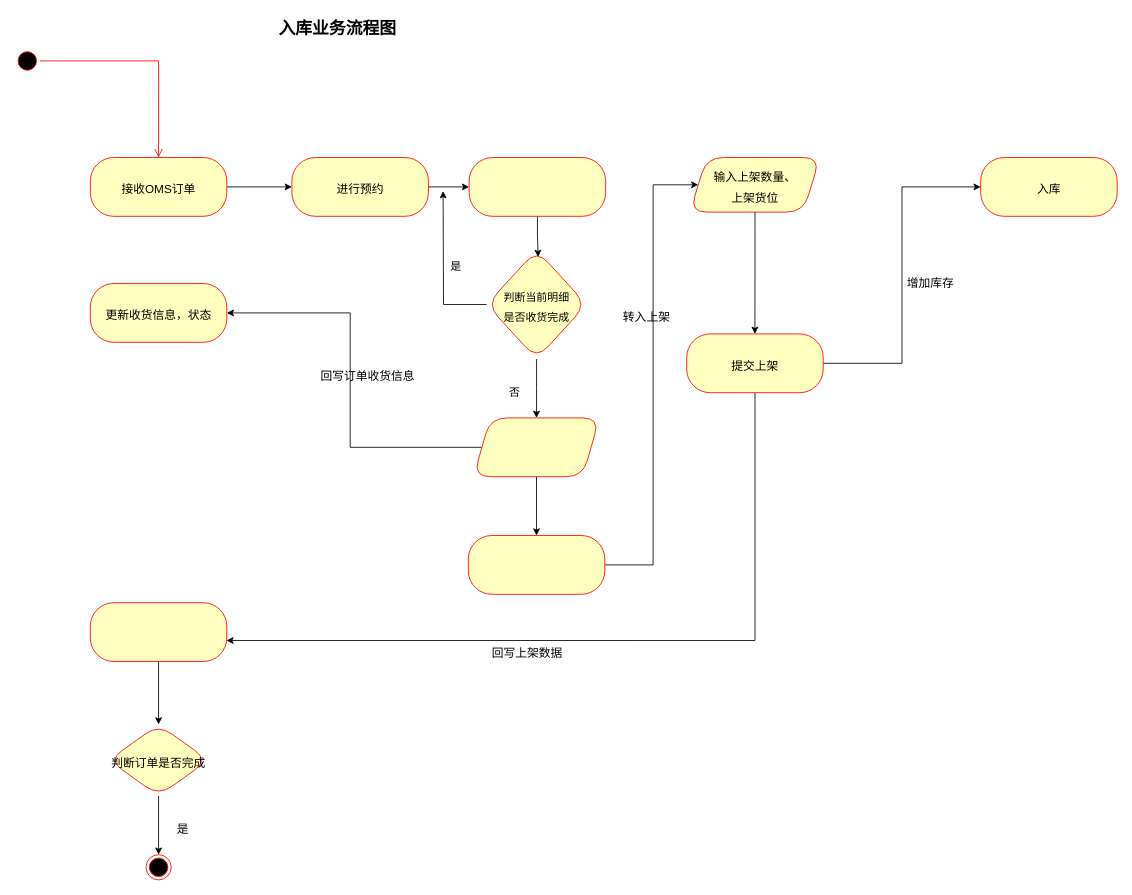
Some shapes in this 1132 by 895 pixel diagram are drawn without their labels. The centre of each missing label's shape, as x and y in pixels:
"更新上架信息，状态， 回写OMS数据" goes at (x=158, y=632).
"查询订单明细" goes at (x=537, y=186).
"转入上架" goes at (x=536, y=564).
"输入数量/生产日期 等信息 提交" goes at (x=536, y=447).
